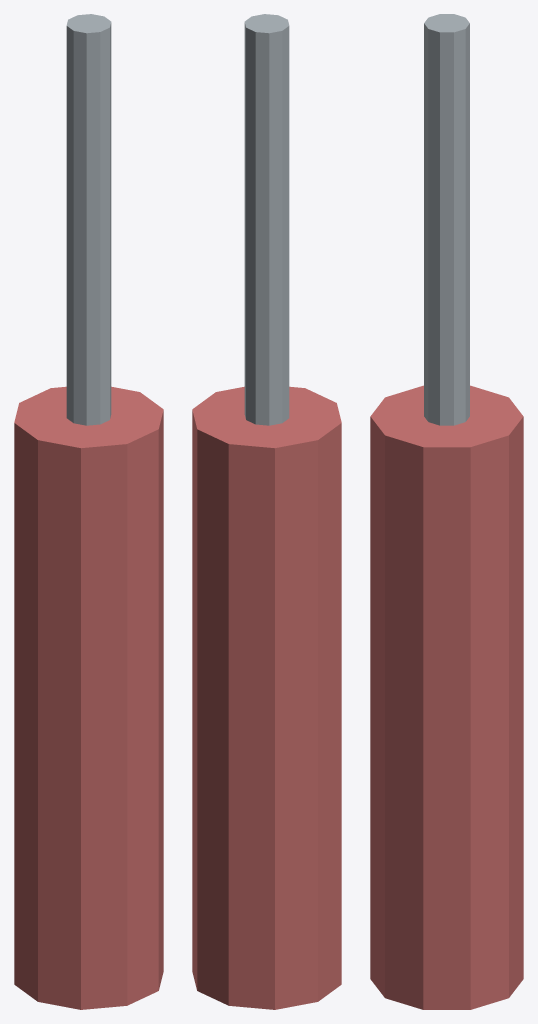
The model's file is probe.glb.
The picture shows the model from 3 angles, left to right: view 1: azimuth 30°, elevation 25°; view 2: azimuth 150°, elevation 25°; view 3: azimuth 270°, elevation 25°; orthographic projection.
Parts seen in each view (by area): view 1: handle, tip; view 2: handle, tip; view 3: handle, tip.
Part boxes in pixels (x1=…): handle: x1=14, y1=386, x2=163, y2=1009; tip: x1=66, y1=14, x2=111, y2=425; handle: x1=192, y1=386, x2=341, y2=1009; tip: x1=244, y1=14, x2=289, y2=425; handle: x1=370, y1=385, x2=523, y2=1009; tip: x1=424, y1=14, x2=469, y2=425.
Size of the model in its own units: 0.1712 by 1.24 by 0.18.
